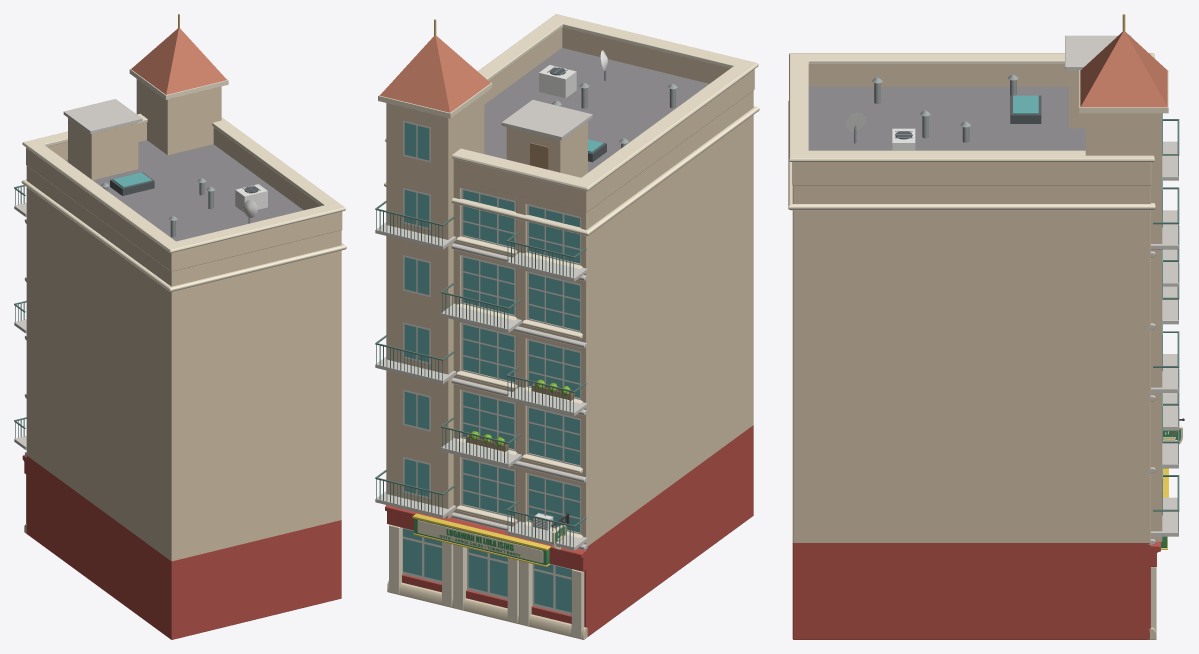
The model's file is panel_5.glb.
3 renders of one model, left to right at view 1: azimuth 30°, elevation 25°; view 2: azimuth 150°, elevation 25°; view 3: azimuth 270°, elevation 25°, orthographic. The views are drawn at different scales.
Parts seen in each view (by area): view 1: shell, trim, props; view 2: shell, props, trim, frames, sign_lugawan_ni_lola_ising, sign_lugawan_ni_lola_ising_text; view 3: shell, trim, props.
Boxes of the visible parts, x1,y1,x2,y2 form: shell: (26, 140, 341, 639); trim: (21, 113, 346, 534); props: (14, 14, 267, 449); shell: (402, 48, 753, 636); props: (375, 19, 677, 550); trim: (384, 14, 759, 639); frames: (402, 120, 581, 615); sign_lugawan_ni_lola_ising: (412, 513, 550, 567); sign_lugawan_ni_lola_ising_text: (439, 528, 520, 556); shell: (792, 86, 1150, 639); trim: (788, 53, 1160, 639); props: (845, 14, 1179, 541).
Size of the model in its own units: 9.86 by 26.25 by 15.51.
23 materials, 2 textured.
